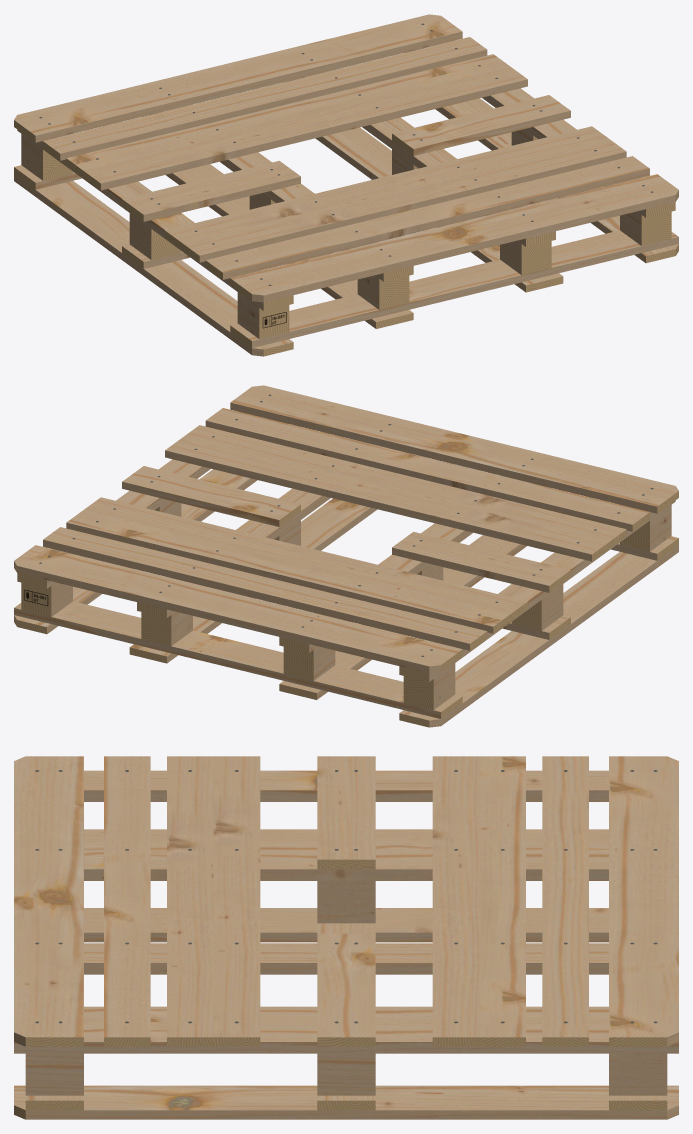
Rendered from cp8-type-pallet-1140x1140.glb.
3 renders of one model, top to bottom at view 1: azimuth 30°, elevation 25°; view 2: azimuth 150°, elevation 25°; view 3: azimuth 270°, elevation 25°, orthographic. The views are drawn at different scales.
Parts seen in each view (by area): view 1: cp8-type-pallet-1140x1140; view 2: cp8-type-pallet-1140x1140; view 3: cp8-type-pallet-1140x1140.
Boxes of the visible parts, left/top/right/bottom form: cp8-type-pallet-1140x1140: left=14, top=14, right=678, bottom=356; cp8-type-pallet-1140x1140: left=14, top=385, right=678, bottom=727; cp8-type-pallet-1140x1140: left=14, top=756, right=678, bottom=1119.
Size of the model in its own units: 1.14 by 0.157 by 1.14.
4 materials, 3 textured.
